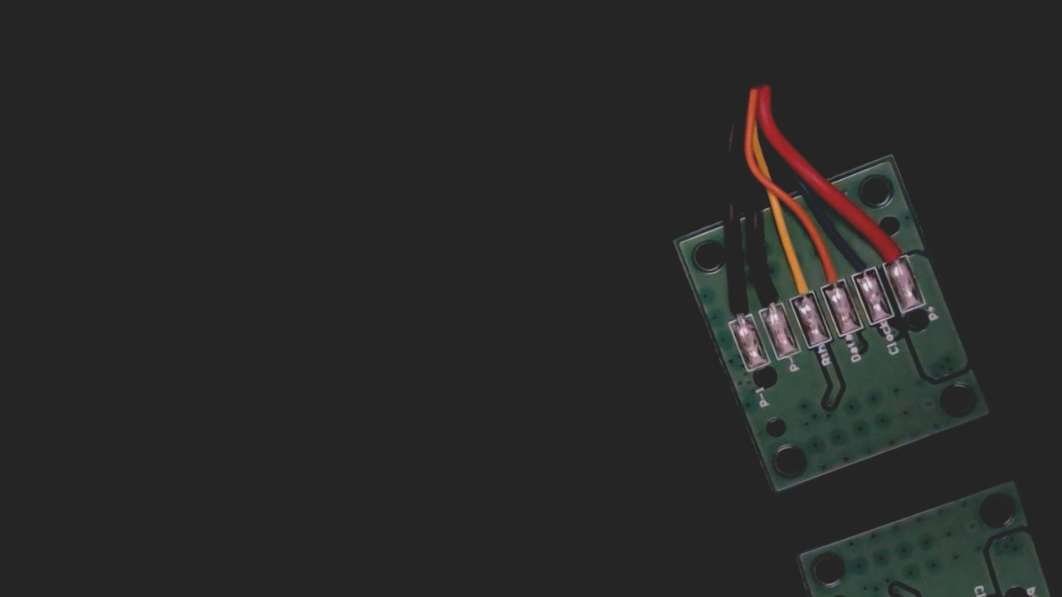Black: (745, 266, 789, 324)
Black1: (713, 274, 758, 336)
Green: (839, 235, 881, 290)
Orange: (806, 241, 850, 300)
Red: (866, 212, 912, 276)
Yellow: (778, 253, 821, 312)
